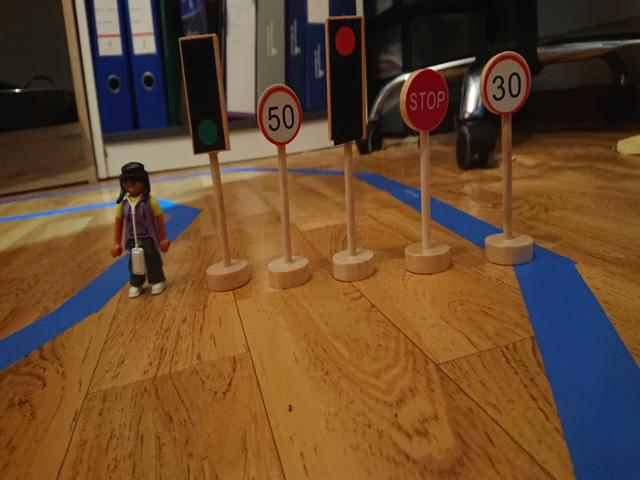30 speed sign: (481, 53, 532, 116)
50 speed sign: (258, 86, 302, 149)
green light: (186, 44, 220, 149)
person: (107, 162, 171, 297)
red light: (329, 20, 362, 129)
stop sign: (406, 67, 448, 131)
